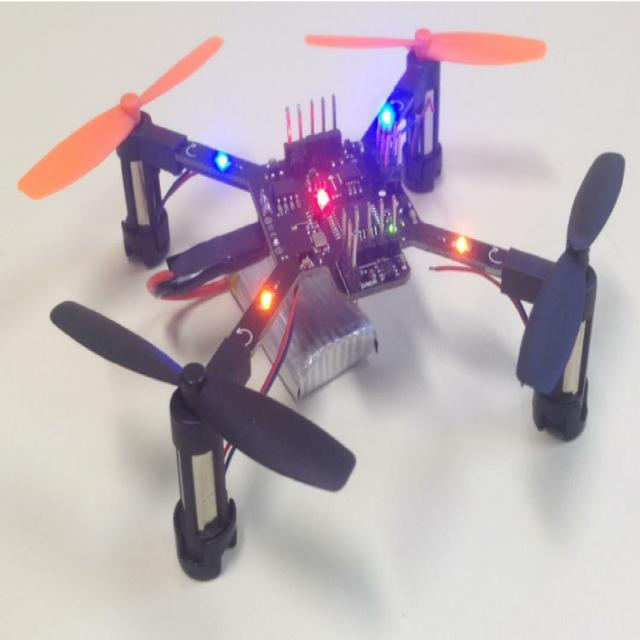drone: (7, 49, 640, 572)
